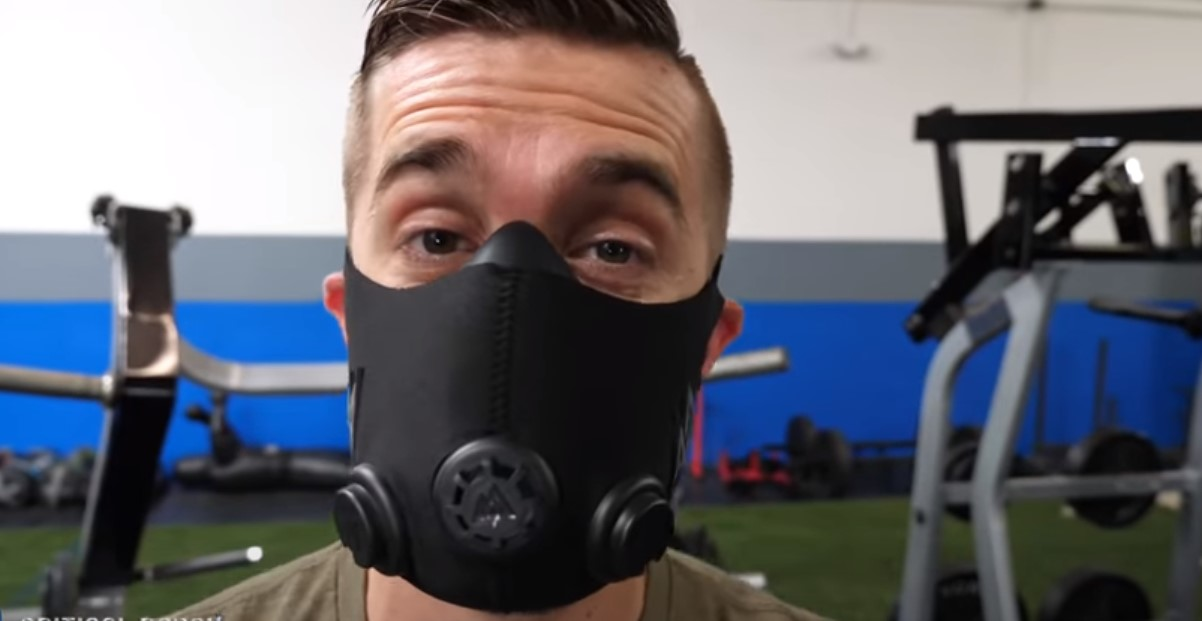face_with_mask: (319, 4, 744, 616)
